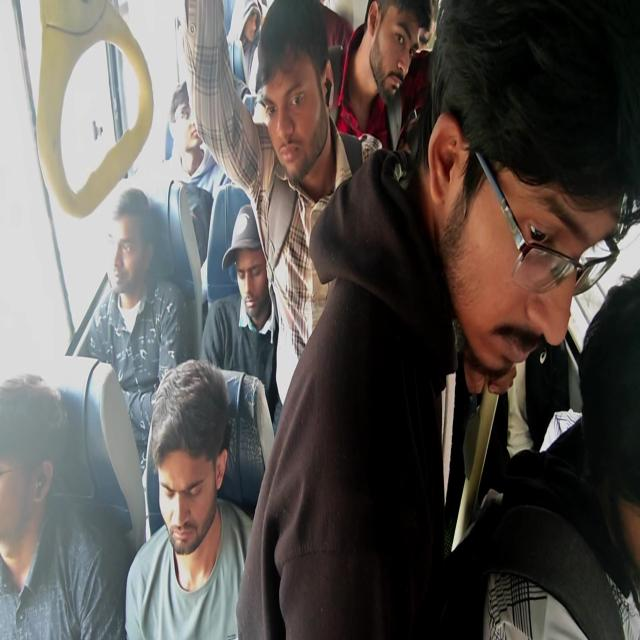person: (438, 0, 548, 412), (159, 416, 262, 640), (584, 340, 640, 640), (0, 344, 61, 581), (222, 215, 309, 376), (370, 8, 442, 124), (110, 210, 163, 332), (257, 29, 310, 126), (179, 95, 215, 188), (229, 0, 261, 73)
